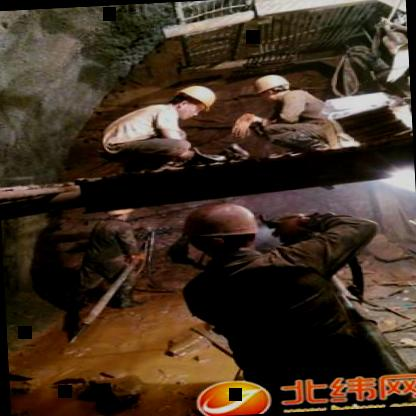helmet: (176, 201, 264, 261), (164, 82, 218, 119), (250, 72, 298, 103)
